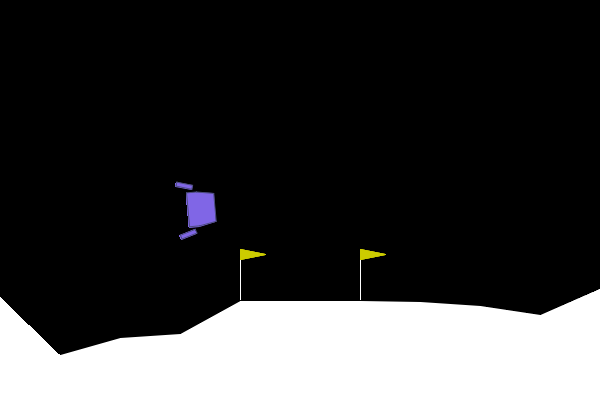lander: (174, 178, 219, 241)
